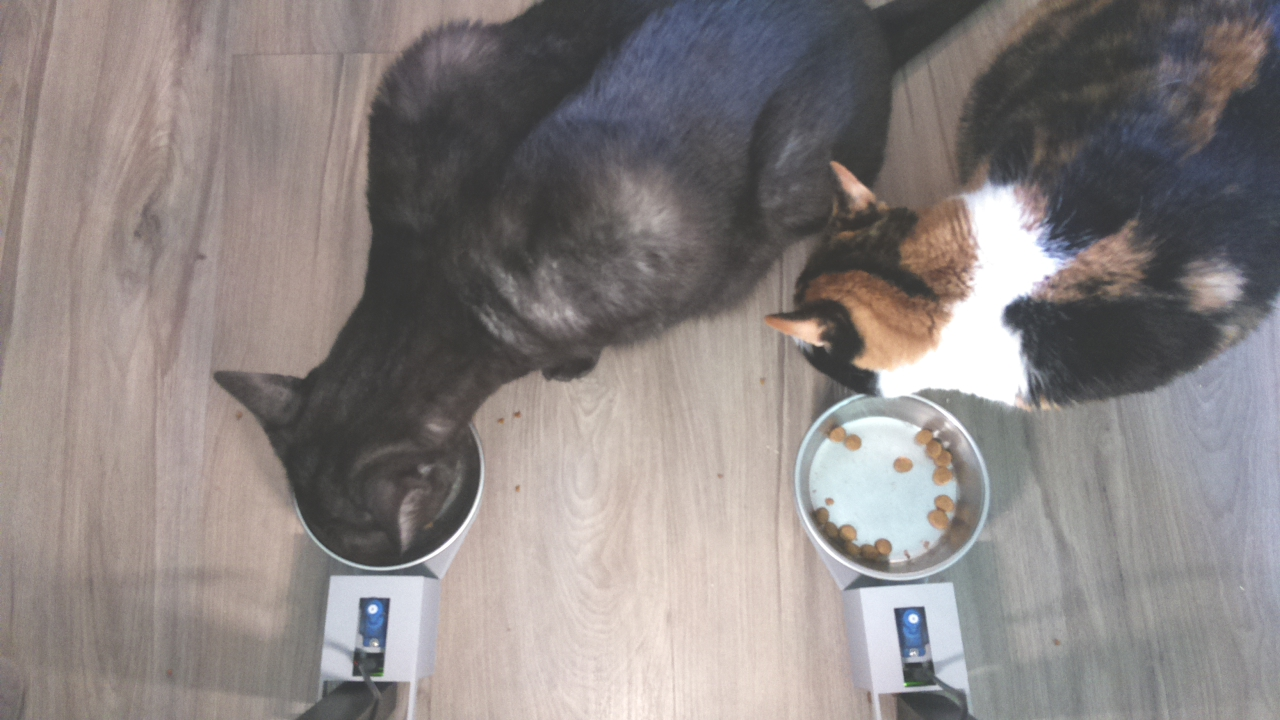bella: (778, 137, 1032, 420)
open_bowl: (790, 390, 999, 583)
saki_eating: (191, 311, 501, 583)
